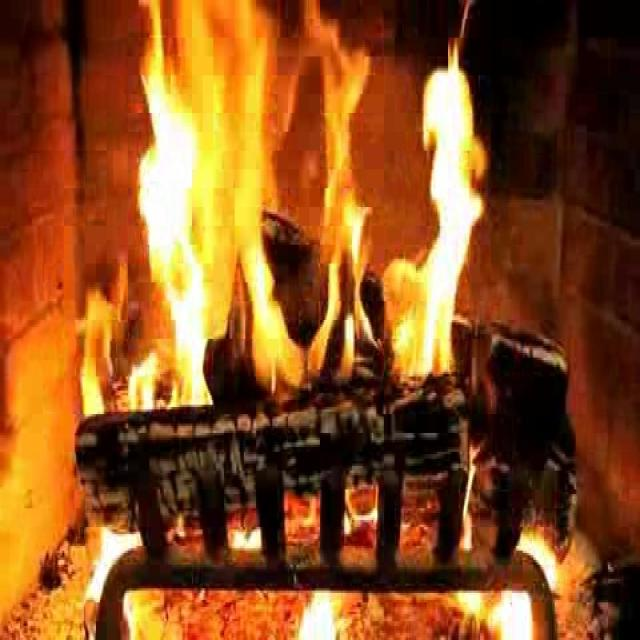fire: (125, 1, 487, 429)
